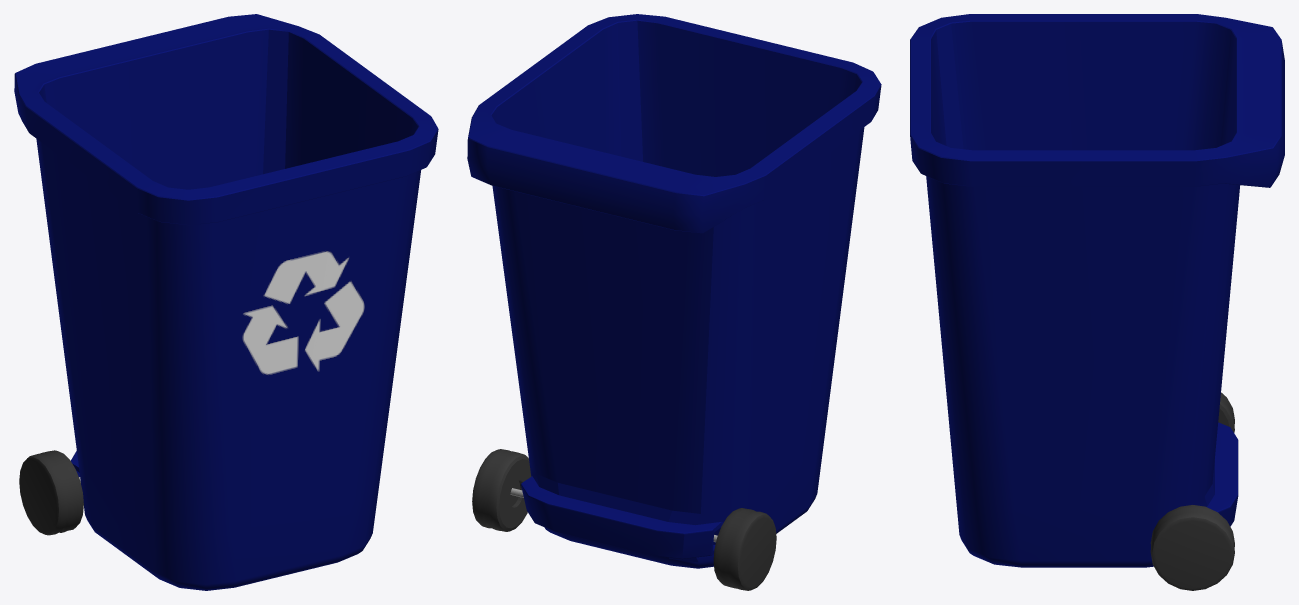
Rendered from DUSTBIN (1).fbx.
3 views of the same model, side by side, from view 1: azimuth 30°, elevation 25°; view 2: azimuth 150°, elevation 25°; view 3: azimuth 270°, elevation 25° (orthographic). The views are drawn at different scales.
Parts seen in each view (by area): view 1: pCube1, pCylinder1; view 2: pCube1, pCylinder1, pCylinder3; view 3: pCube1, pCylinder3.
Boxes of the visible parts, bbox=[...] form: pCube1: bbox=[14, 14, 438, 590]; pCylinder1: bbox=[19, 450, 83, 535]; pCube1: bbox=[467, 14, 881, 568]; pCylinder1: bbox=[713, 508, 776, 590]; pCylinder3: bbox=[472, 449, 531, 531]; pCube1: bbox=[910, 14, 1284, 567]; pCylinder3: bbox=[1150, 505, 1234, 590].
Bounding box in the file's own units: 3.75 × 5.24 × 4.06.
4 materials, 1 textured.
